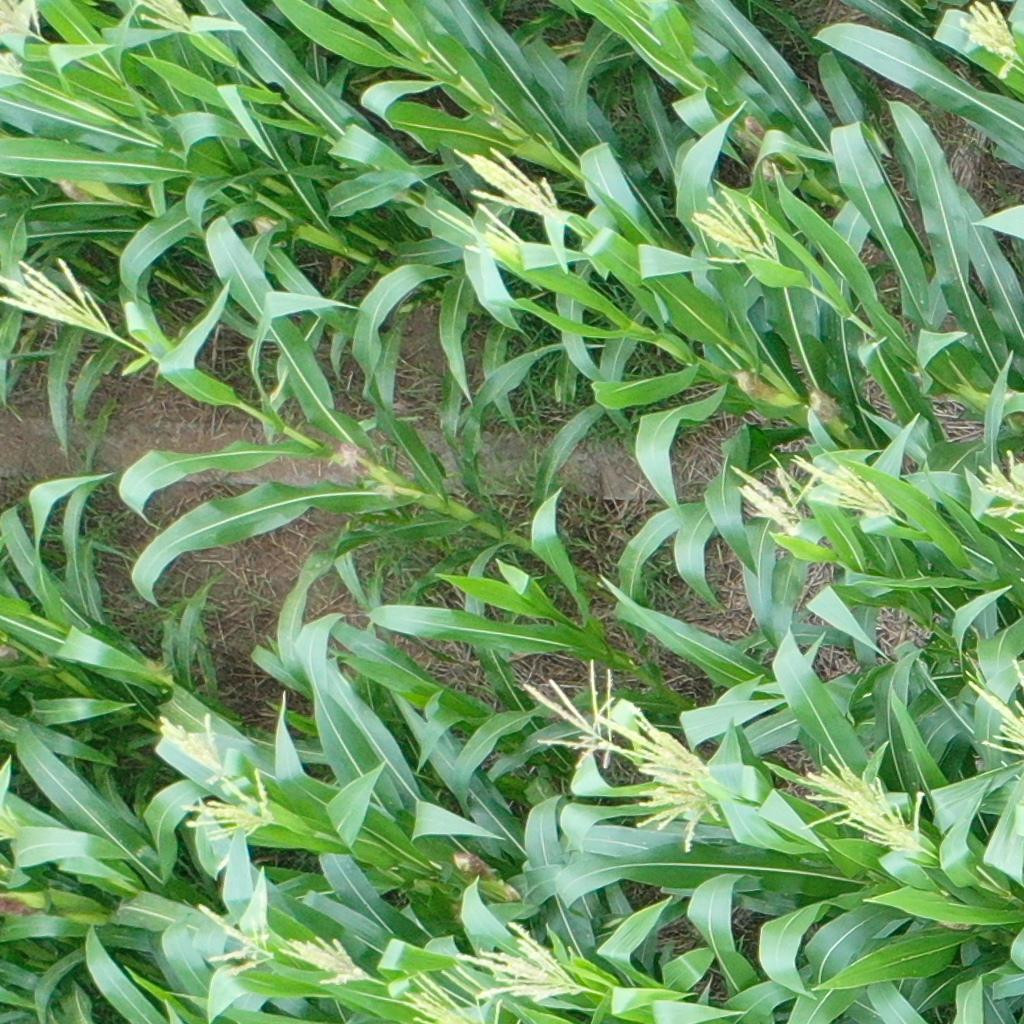Tassel: (453, 143, 586, 238), (456, 921, 590, 1004), (520, 658, 617, 770), (1, 257, 115, 339), (596, 702, 711, 776), (689, 189, 782, 268), (635, 771, 721, 854), (181, 767, 275, 842), (792, 451, 897, 516), (844, 779, 928, 855), (796, 754, 876, 827), (964, 658, 1024, 755), (278, 929, 375, 989), (198, 903, 275, 976), (434, 202, 525, 259), (959, 1, 1024, 78), (729, 462, 802, 523), (400, 970, 481, 1024), (156, 710, 224, 774), (979, 449, 1024, 537), (135, 1, 195, 33), (1, 1, 45, 39), (1, 52, 28, 80), (1, 806, 21, 841)
